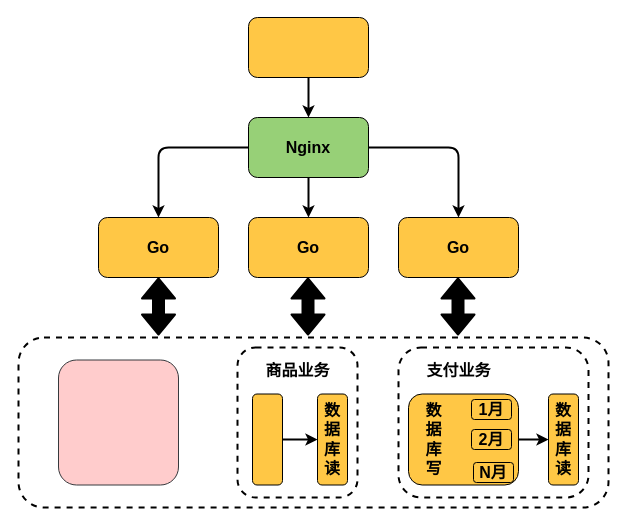
Some shapes in this 626 by 526 pixel diagram are drawn without their labels. The box of each missing label's shape, as (x1, y1, x2, y2) in pixels:
分布式缓存: (58, 359, 178, 485)
数据库写: (252, 393, 282, 485)
浏览器: (248, 16, 368, 78)
